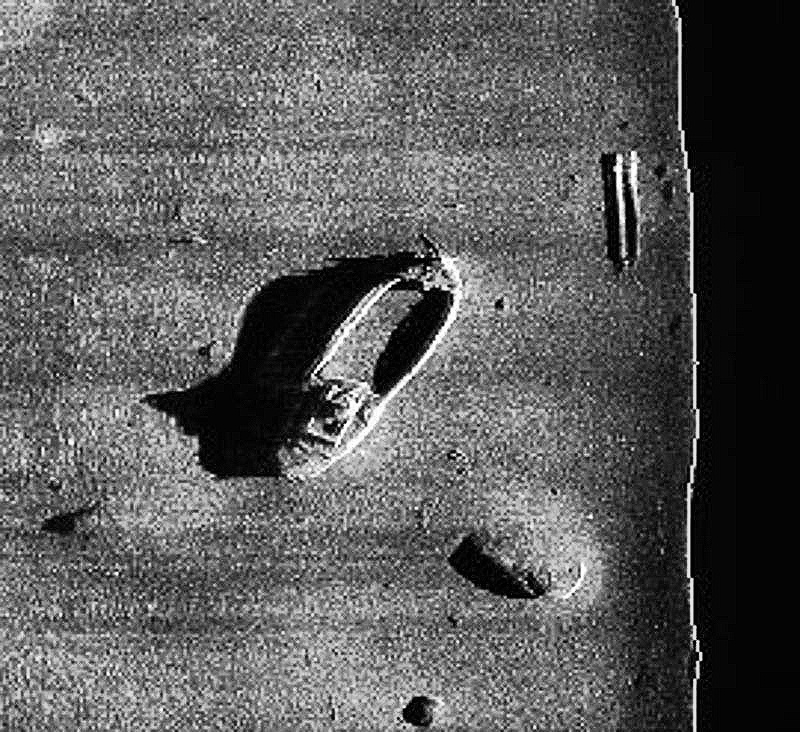ship: (270, 243, 468, 494)
